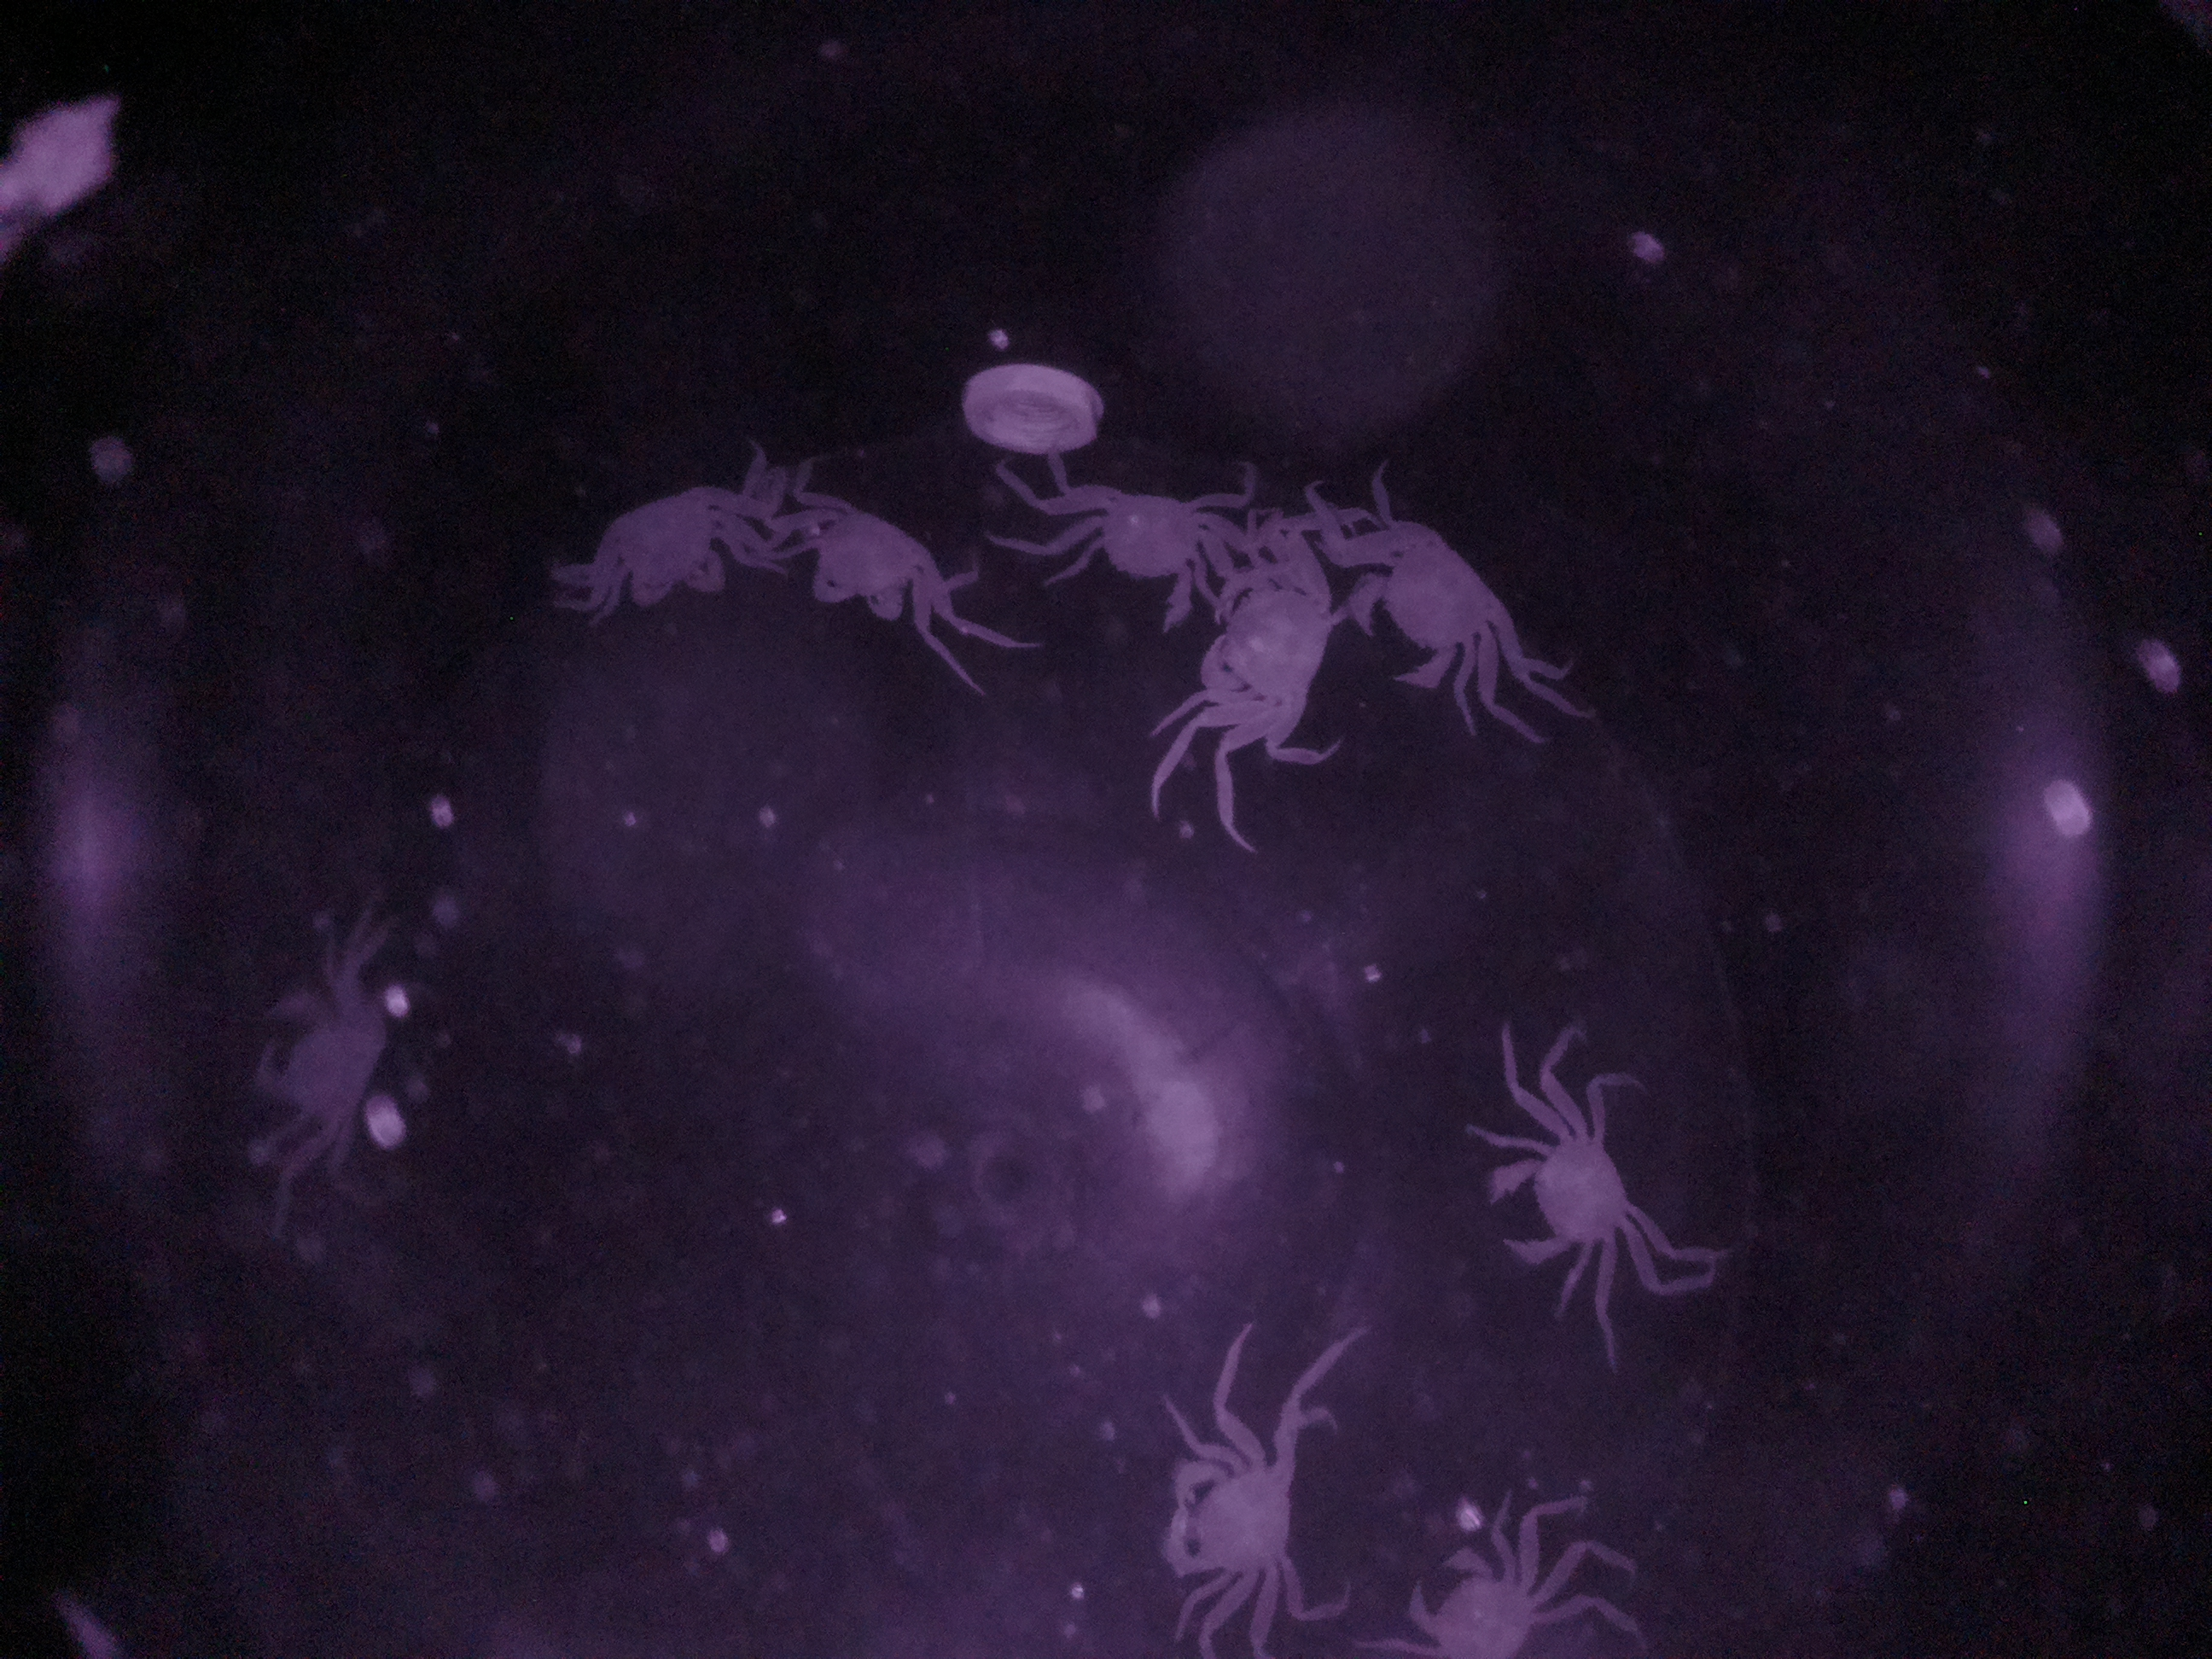Crab: (1139, 1406, 1320, 1629), (1474, 1084, 1660, 1298), (1334, 505, 1540, 697), (1040, 450, 1233, 643), (779, 469, 954, 653), (578, 455, 768, 626)
